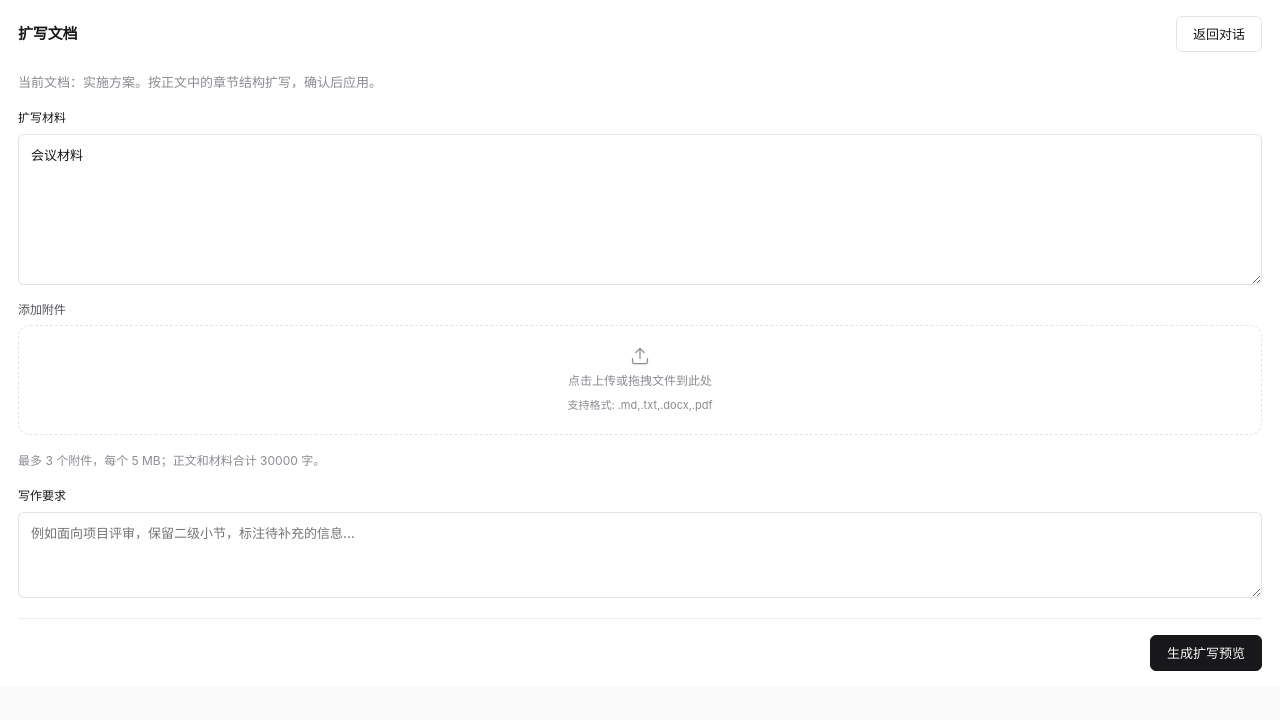
Test case: does not automatically retry a manual handoff submission that fails before the scheduled start
The image size is (1280, 720).
Click the button "生成扩写预览" at [1206, 653], box [1150,635,1262,671]
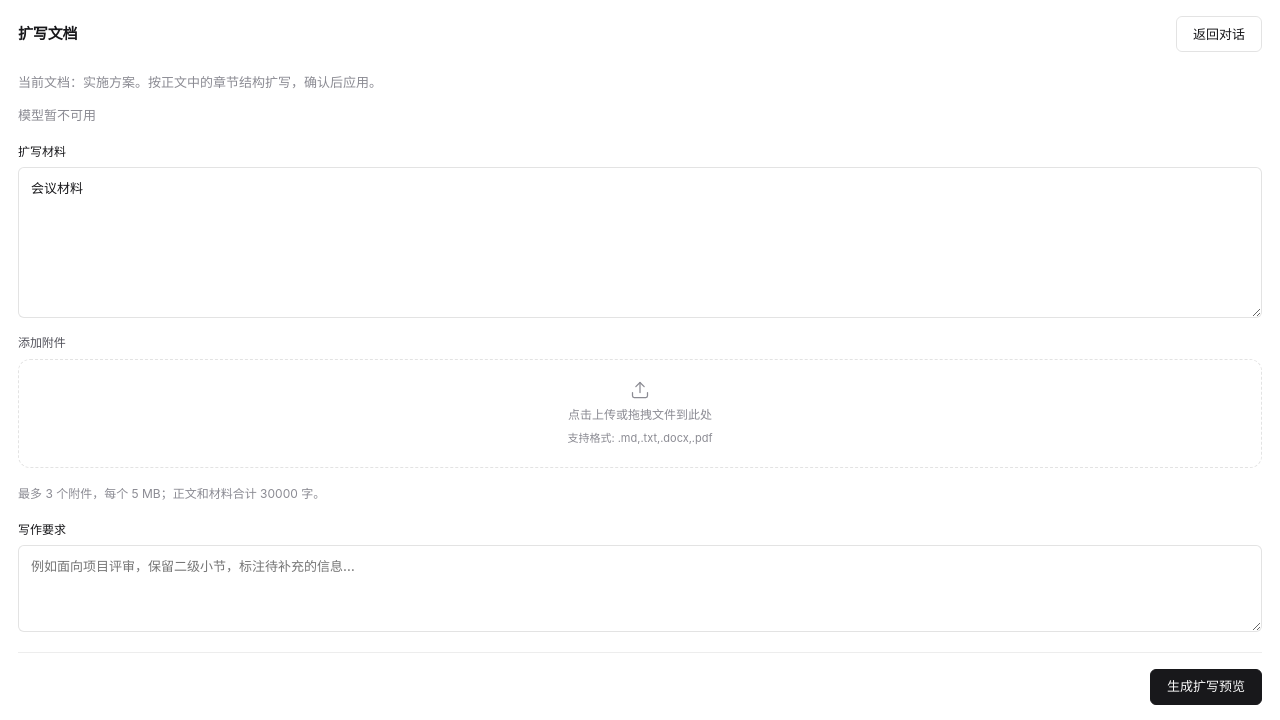
expect the text "模型暂不可用" is shown: met, box [18,107,96,123]
